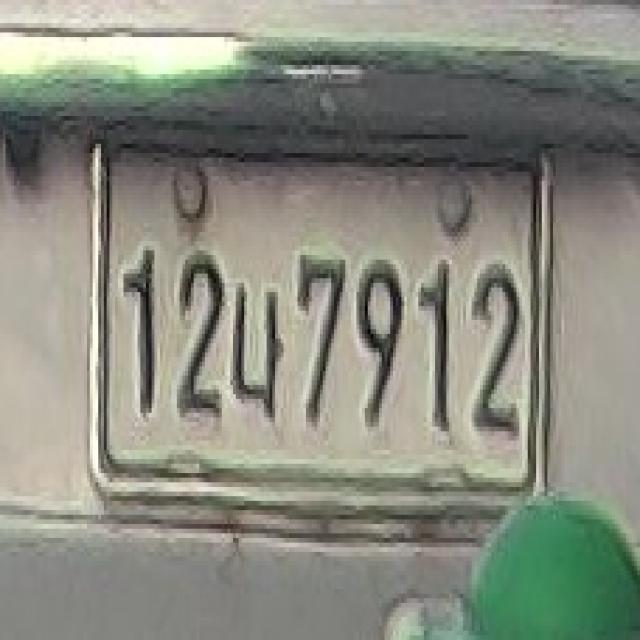1: (120, 233, 161, 437), (414, 250, 456, 447)
2: (467, 257, 530, 447), (170, 235, 226, 445)
7: (296, 254, 348, 446)
9: (358, 250, 403, 442)
license_plate: (86, 147, 537, 505)
na: (230, 241, 285, 433)
